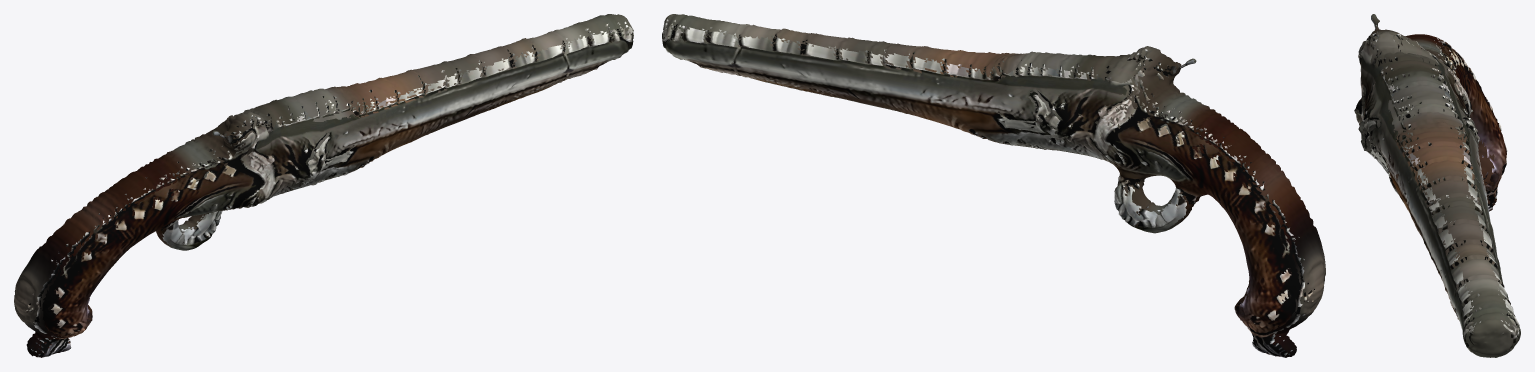
Rendered from kfl-2172.glb.
3 views of the same model, side by side, from view 1: azimuth 30°, elevation 25°; view 2: azimuth 150°, elevation 25°; view 3: azimuth 270°, elevation 25° (orthographic). The views are drawn at different scales.
Parts seen in each view (by area): view 1: kfl-2172; view 2: kfl-2172; view 3: kfl-2172.
Part boxes in pixels (x1,y1,x2,y2): kfl-2172: [14, 14, 633, 357]; kfl-2172: [662, 14, 1325, 357]; kfl-2172: [1354, 14, 1520, 357].
Size of the model in its own units: 0.9936 by 0.3507 by 0.1938.
4 materials, 4 textured.
